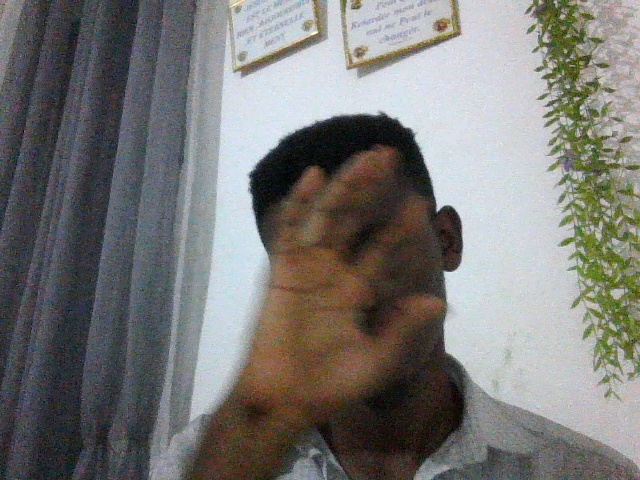hand: (232, 143, 442, 441)
